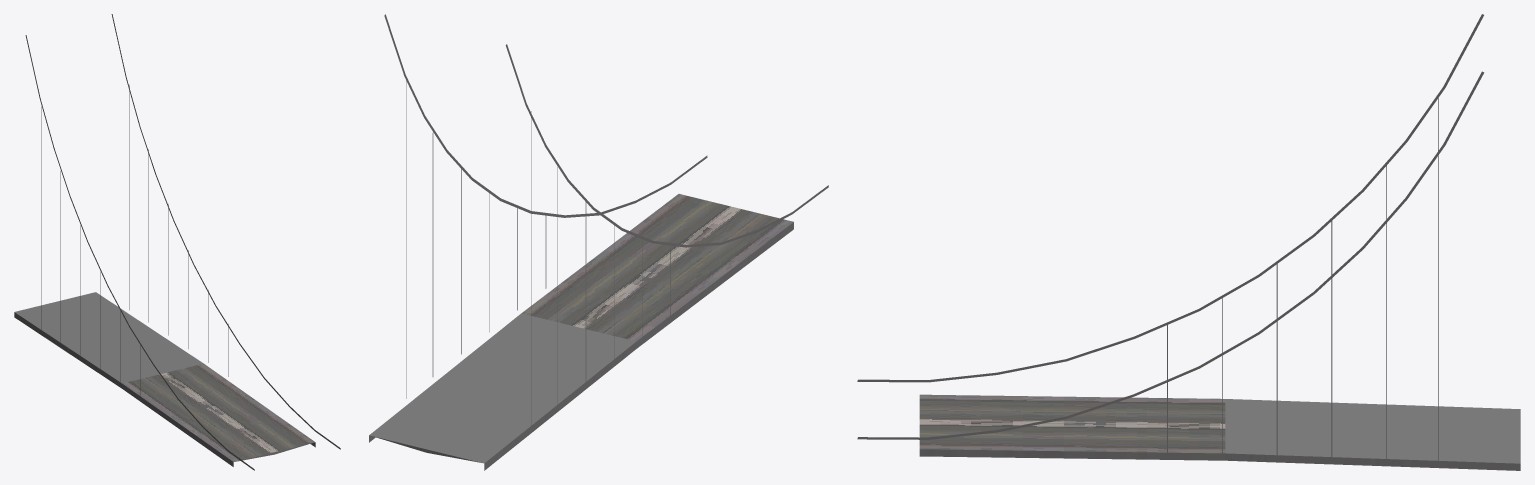
Rendered from lodrig_03_sfw.obj.
3 renders of one model, left to right at view 1: azimuth 30°, elevation 25°; view 2: azimuth 150°, elevation 25°; view 3: azimuth 270°, elevation 25°, orthographic. The views are drawn at different scales.
Visible parts, largest first — view 1: LODrig_03_sfw; view 2: LODrig_03_sfw; view 3: LODrig_03_sfw.
Part boxes in pixels (box(x1,y1,x2,y2)): LODrig_03_sfw: box(14, 14, 340, 470); LODrig_03_sfw: box(369, 14, 828, 470); LODrig_03_sfw: box(857, 14, 1520, 470).
Bounding box in the file's own units: 39.43 × 125 × 187.
Materials: 4 (2 with a texture image).
